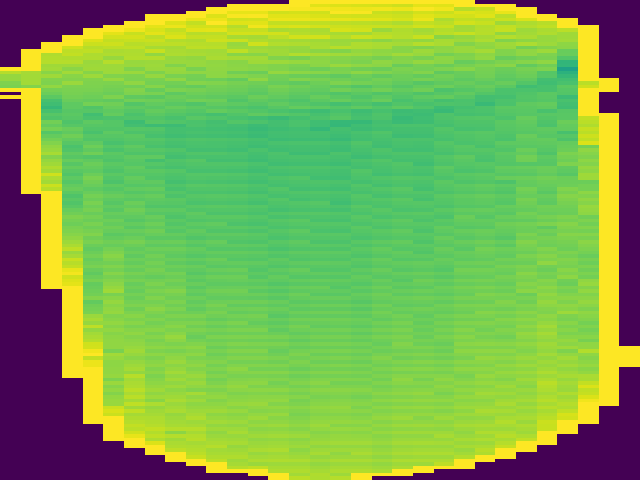cylinder: (3, 2, 640, 480)
